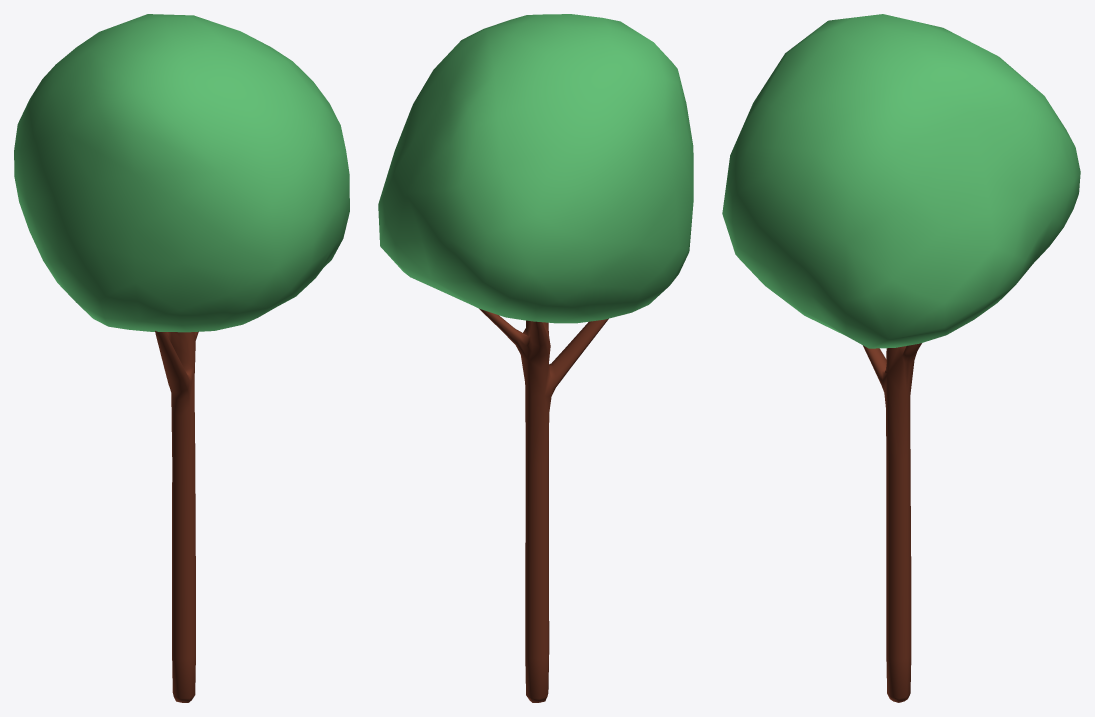
The model's file is TreeThin.fbx.
3 renders of one model, left to right at view 1: azimuth 30°, elevation 25°; view 2: azimuth 150°, elevation 25°; view 3: azimuth 270°, elevation 25°, orthographic. The views are drawn at different scales.
Parts seen in each view (by area): view 1: TreeThin; view 2: TreeThin; view 3: TreeThin.
Part boxes in pixels (x1=…): TreeThin: x1=14, y1=14, x2=349, y2=702; TreeThin: x1=378, y1=14, x2=693, y2=702; TreeThin: x1=722, y1=14, x2=1080, y2=702.
Size of the model in its own units: 103 by 239 by 117.
